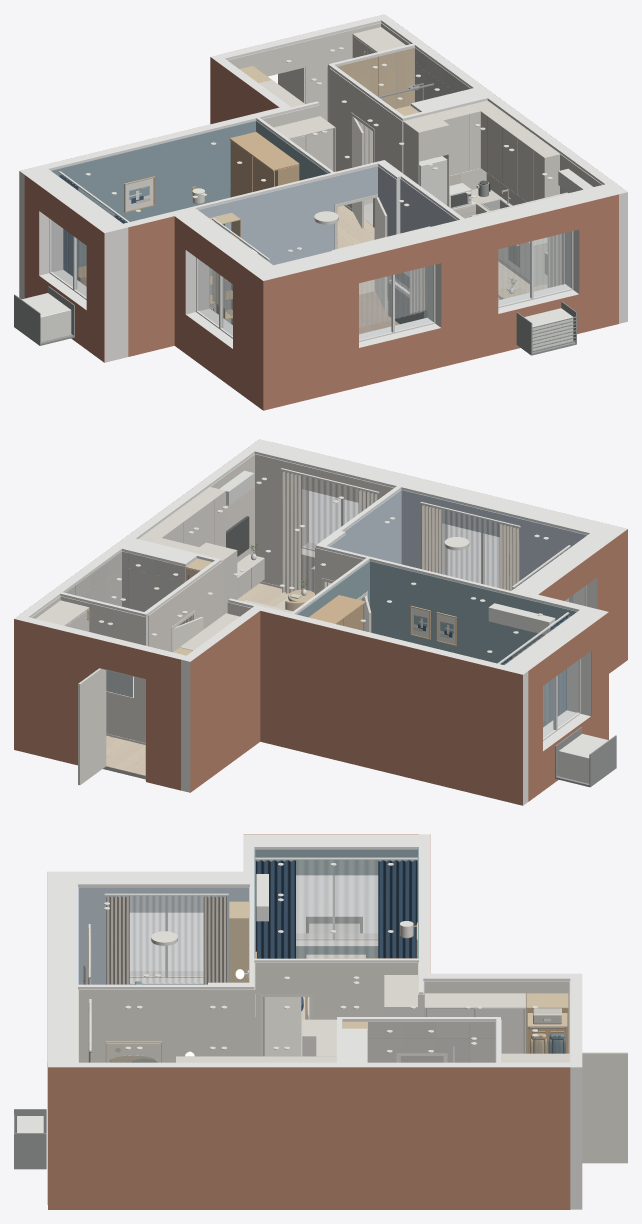
File: apartment-model.glb
3 views of the same model, one above another, from view 1: azimuth 30°, elevation 25°; view 2: azimuth 150°, elevation 25°; view 3: azimuth 270°, elevation 25° (orthographic). The views are drawn at different scales.
Visible parts, largest first — view 1: Facade_Wall_SouthWest_001_001, WallFinish_BedroomNorth_001, Facade_Wall_SouthMiddle_001_001, WallFinish_StudyNorth_001, Facade_Wall_BedroomSouthExterior_001_001, Facade_Wall_SouthEast_001_001, Facade_Wall_StudyWestLower_001_001, Window_StudySouth_glass_001, Window_KitchenSouth_glass_001, Wall_EastExterior_001, Wall_BedroomWestLower_001, Facade_StudySouth_Sill_001_001 (+68 smaller); view 2: Facade_Wall_BedroomNorth_001_001, WallFinish_BedroomSouth_001, Facade_Wall_WestEntry_001_001, Facade_Wall_NorthEntryRight_001_001, Facade_Wall_NorthEntryLeft_001_001, FinishBeige_BathOuterNorth_001, Curtain_KitchenSouth_Tulle_075, Curtain_StudySouth_Tulle_076, FinishBeige_KitchenSouthRight_001, Facade_Wall_StudyWestLower_001_001, Door_Entry_001, Wall_EastExterior_001 (+57 smaller); view 3: Facade_Wall_EastExterior_001_001, Curtain_BedroomWest_Tulle_119, FinishBeige_KitchenWest_001, Curtain_StudyWest_Tulle_076, Door_Entry_001, FinishBeige_HallBedroom_001, Curtain_BedroomWest_LeftPanel_031, Curtain_BedroomWest_RightPanel_031, FinishBeige_HallStudyReturn_001, Wall_EastExterior_001, WallFinish_StudyWestLower_001, Wall_NorthEntryRight_001 (+41 smaller).
Part boxes in pixels (x1,y1,x2,y2): Facade_Wall_SouthWest_001_001: (263,258,358,410); WallFinish_BedroomNorth_001: (51,120,256,267); Facade_Wall_SouthMiddle_001_001: (441,224,498,367); WallFinish_StudyNorth_001: (198,176,336,323); Facade_Wall_BedroomSouthExterior_001_001: (128,216,174,356); Facade_Wall_SouthEast_001_001: (579,194,618,333); Facade_Wall_StudyWestLower_001_001: (233,259,263,410); Window_StudySouth_glass_001: (359,265,432,339); Window_KitchenSouth_glass_001: (498,232,570,305); Wall_EastExterior_001: (381,18,627,323); Wall_BedroomWestLower_001: (87,214,128,362); Facade_StudySouth_Sill_001_001: (359,328,441,387); Facade_Wall_BedroomNorth_001_001: (260,611,522,805); WallFinish_BedroomSouth_001: (370,561,576,722); Facade_Wall_WestEntry_001_001: (190,611,260,792); Facade_Wall_NorthEntryRight_001_001: (14,619,99,765); Facade_Wall_NorthEntryLeft_001_001: (146,651,181,790); FinishBeige_BathOuterNorth_001: (60,596,146,742); Curtain_KitchenSouth_Tulle_075: (290,473,371,592); Curtain_StudySouth_Tulle_076: (431,506,513,587); FinishBeige_KitchenSouthRight_001: (255,454,294,585); Facade_Wall_StudyWestLower_001_001: (597,529,627,673); Door_Entry_001: (78,668,106,785); Wall_EastExterior_001: (20,439,267,617); Facade_Wall_EastExterior_001_001: (48,1067,570,1209); Curtain_BedroomWest_Tulle_119: (256,860,416,958); FinishBeige_KitchenWest_001: (78,989,207,1062); Curtain_StudyWest_Tulle_076: (115,896,217,983); Door_Entry_001: (582,1052,627,1163); FinishBeige_HallBedroom_001: (310,962,417,1019); Curtain_BedroomWest_LeftPanel_031: (378,860,417,958); Curtain_BedroomWest_RightPanel_031: (256,860,295,958); FinishBeige_HallStudyReturn_001: (208,989,254,1056); Wall_EastExterior_001: (48,1062,570,1067); WallFinish_StudyWestLower_001: (79,887,114,984); Wall_NorthEntryRight_001: (570,1022,582,1209).
Bounding box in the file's own units: 10.64 × 2.86 × 10.93.
